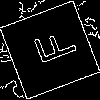F: (25, 25, 78, 70)
